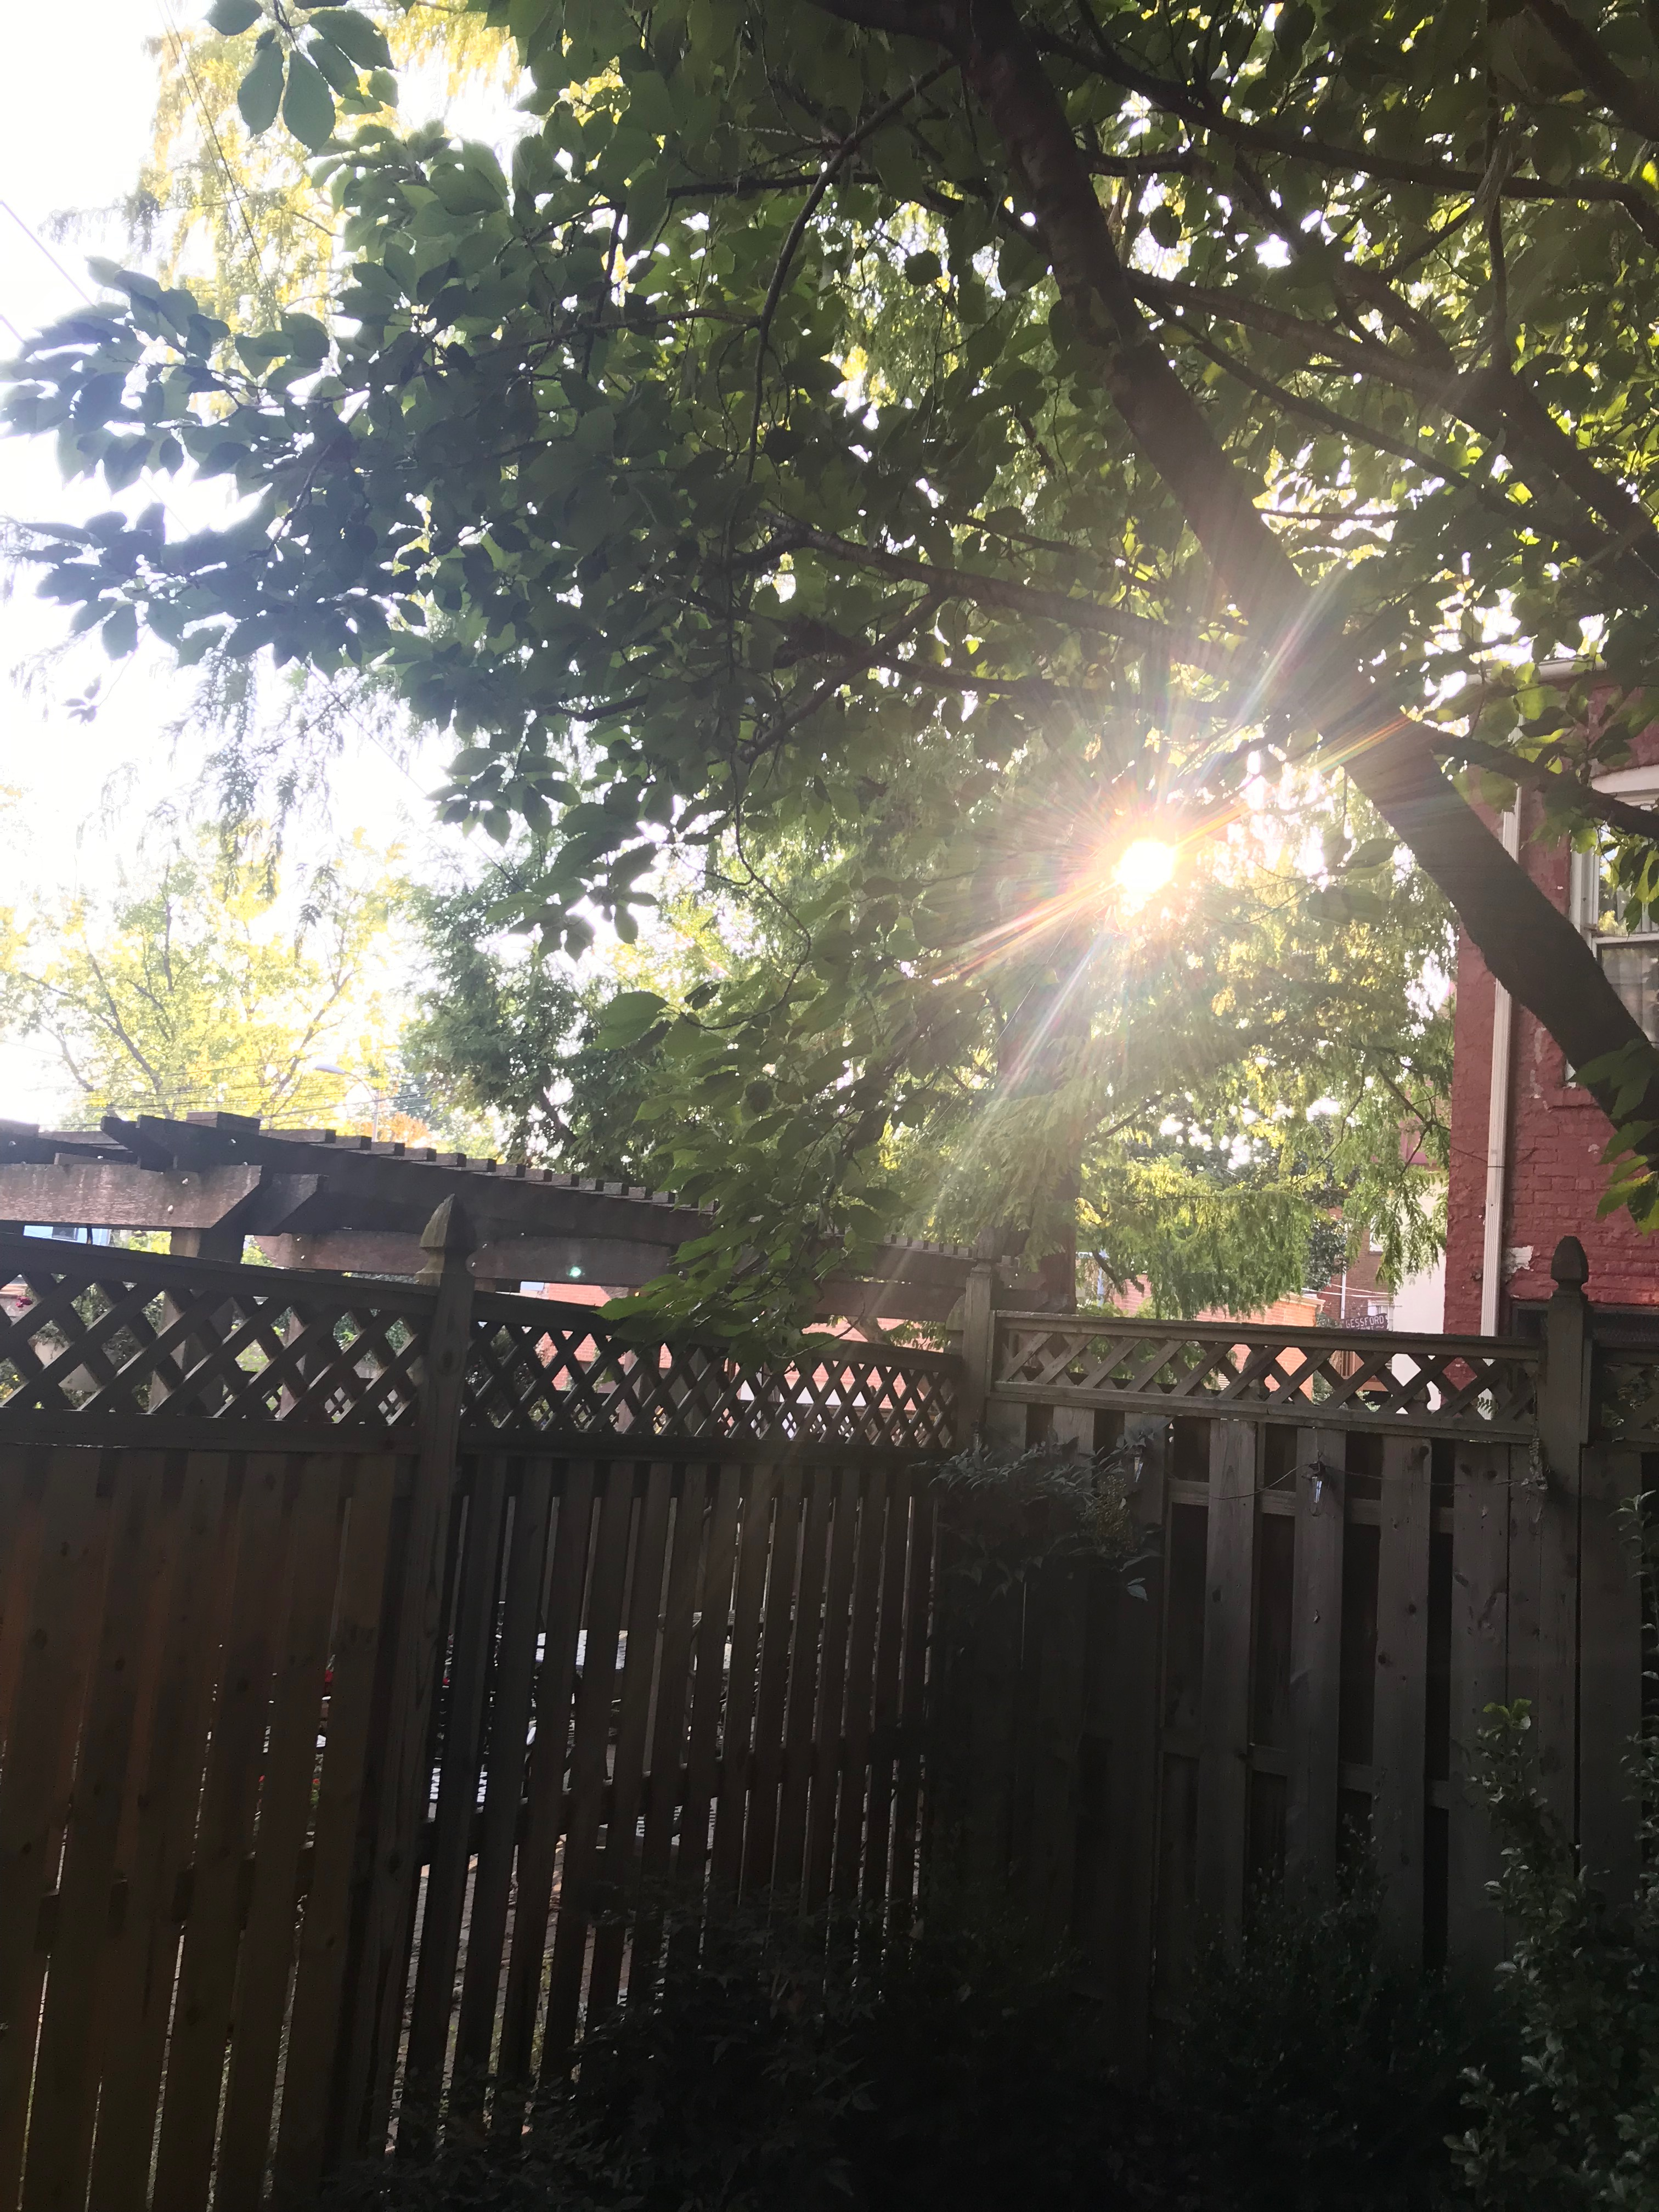flare: (568, 1266, 584, 1278)
